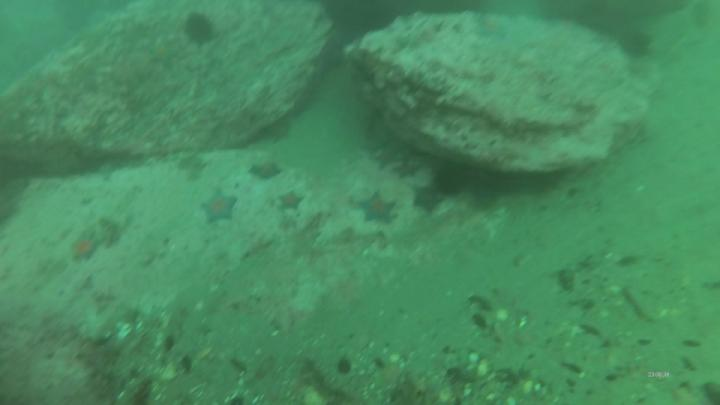echinus: (182, 11, 215, 45)
starfish: (354, 190, 398, 228), (198, 186, 239, 226), (410, 186, 447, 218), (70, 231, 104, 263), (275, 189, 307, 216), (369, 147, 402, 172), (247, 157, 284, 177), (393, 160, 420, 180)
